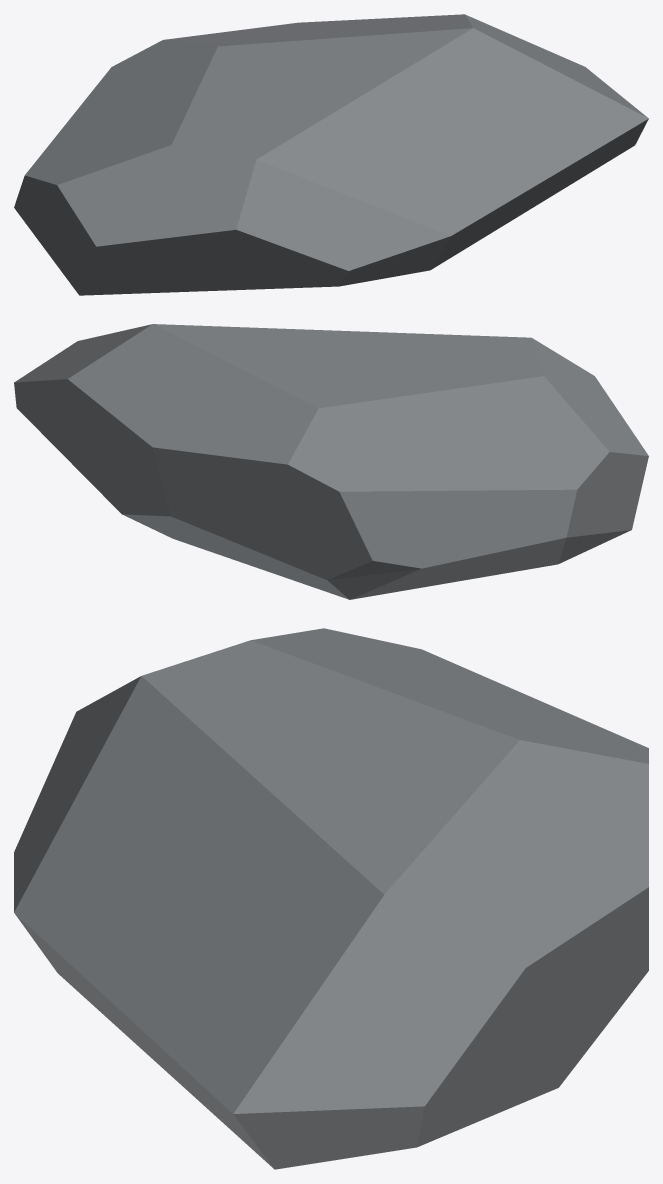
The model's file is Rock_Round_m_12.fbx.
The picture shows the model from 3 angles, top to bottom: view 1: azimuth 30°, elevation 25°; view 2: azimuth 150°, elevation 25°; view 3: azimuth 270°, elevation 25°; orthographic projection. The views are drawn at different scales.
Visible parts, largest first — view 1: Rock_Round_m_12; view 2: Rock_Round_m_12; view 3: Rock_Round_m_12.
Part boxes in pixels (x1,y1,x2,y2): Rock_Round_m_12: (14, 14, 648, 295); Rock_Round_m_12: (14, 324, 648, 599); Rock_Round_m_12: (14, 628, 648, 1169).
Bounding box in the file's own units: 157 × 42.36 × 102.
